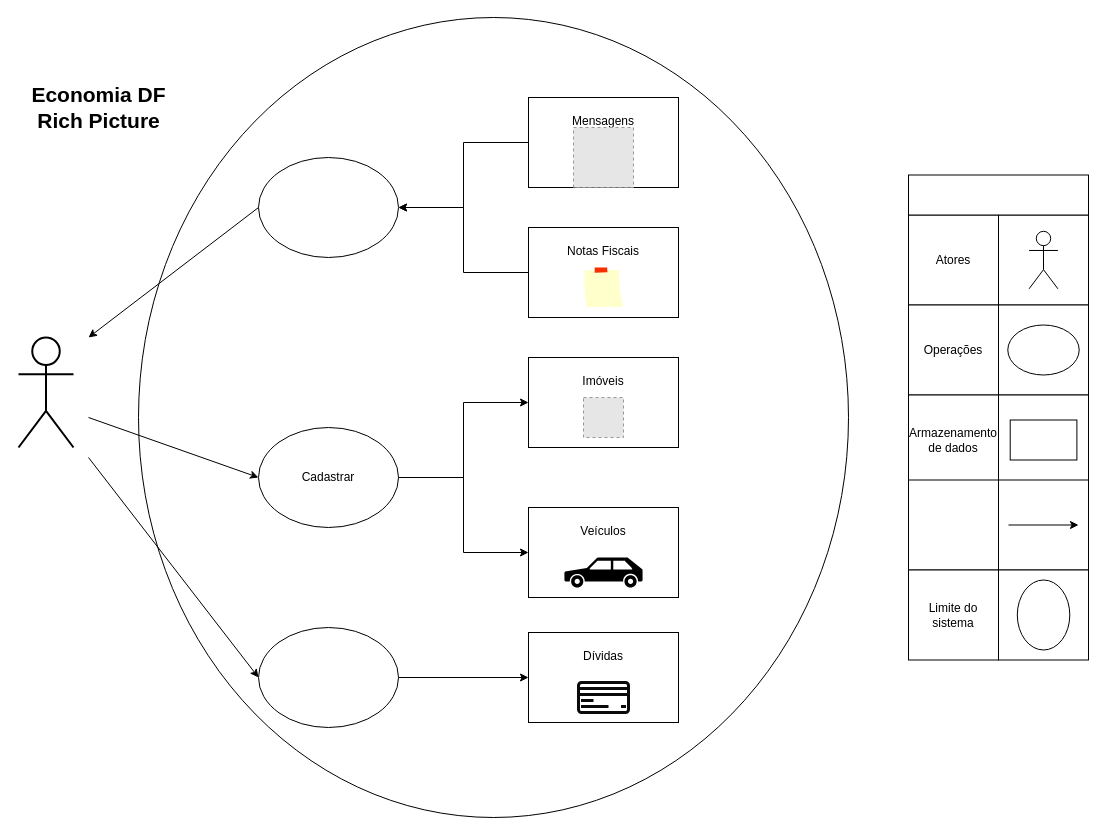
Some shapes in this 1106 by 835 pixel diagram are drawn without their labels. Grey dashed boxes stand in for pictures. The shapes that lost their labels are listed below. From the top down, each one's centre as x and y in pixels, then its label:
point (328, 207): Visualizar
point (998, 194): Legenda
point (45, 392): Usuário
point (953, 524): Fluxo de dados
point (328, 677): Emitir
